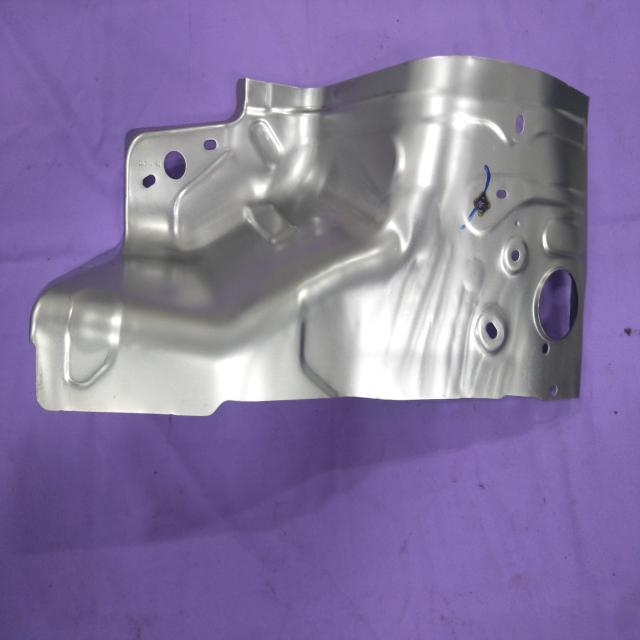Healthy: (29, 53, 591, 417)
